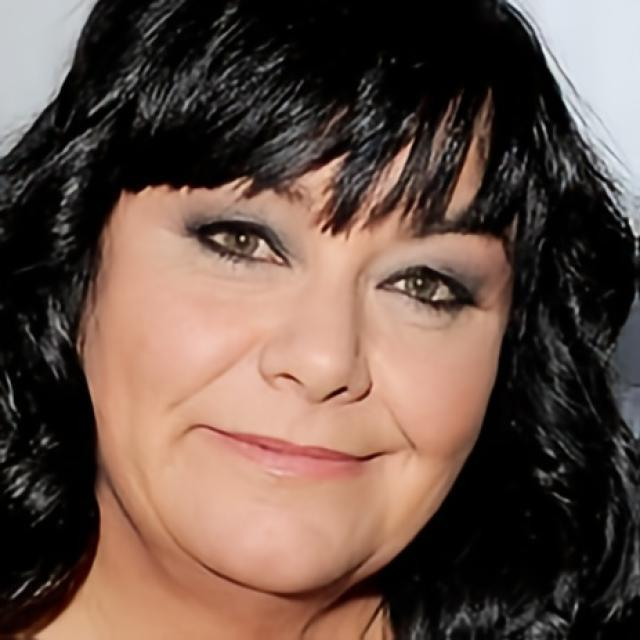content: (89, 59, 516, 598)
